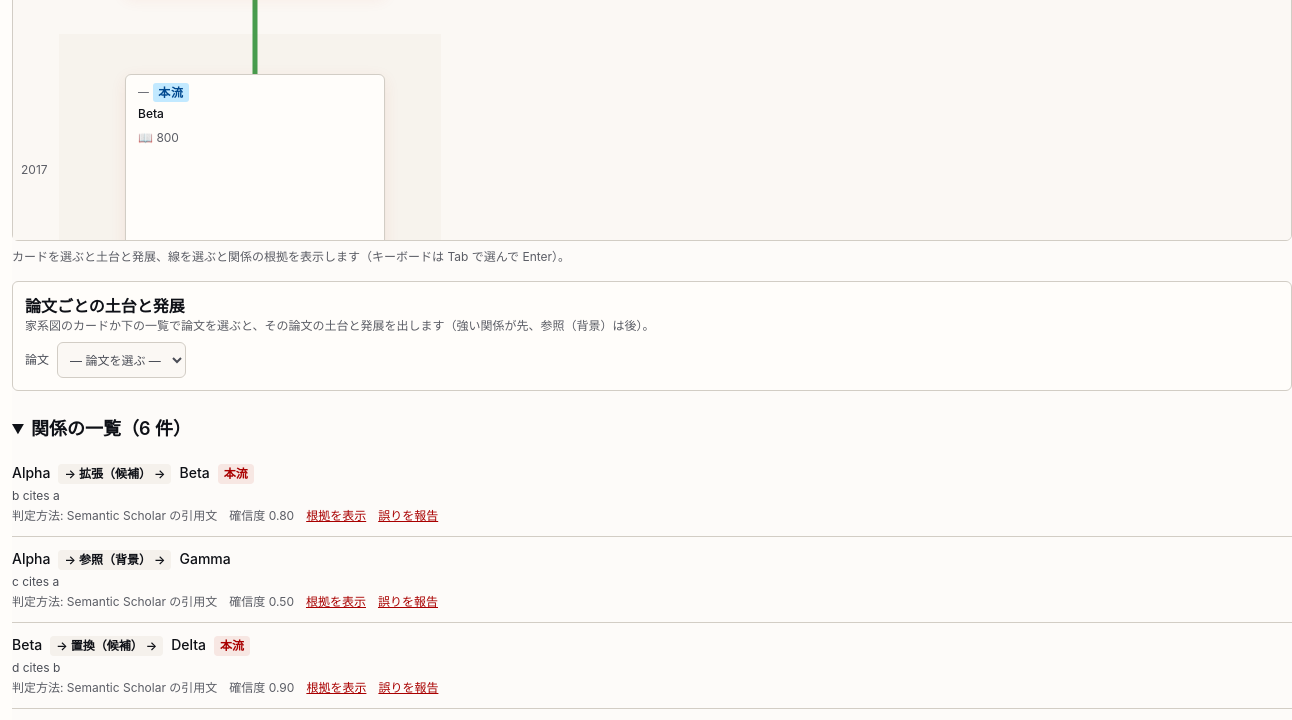
Test case: Prior / Derivative panel (P0-5) › is empty until a paper is picked, then lists 土台 and 発展 with relation labels
(page scrolled)
Expected: the element that starts with "論文ごとの土台と発展" is shown, [25,296,185,316]
Select "2020 · Delta" in the dropdown labelled "論文". click: (122, 360)
box: [57,342,186,378]
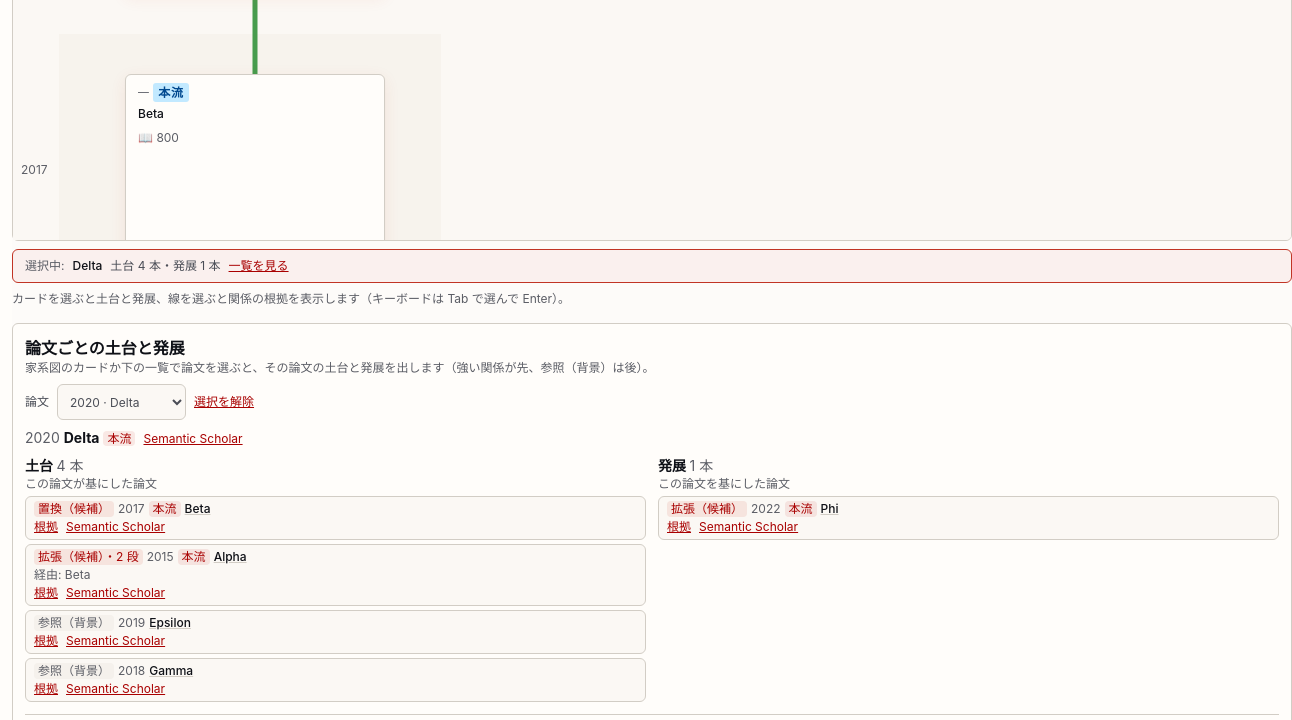
Expected: the list item "置換（候補） 2017 本流 Beta 根拠 Semantic Scholar" is shown, [25,496,646,540]
Expected: the list item "拡張（候補）・2 段 2015 本流 Alpha 経由: Beta 根拠 Semantic Scholar" is shown, [25,544,646,606]
Expected: the list item "参照（背景） 2019 Epsilon 根拠 Semantic Scholar" is shown, [25,610,646,654]
